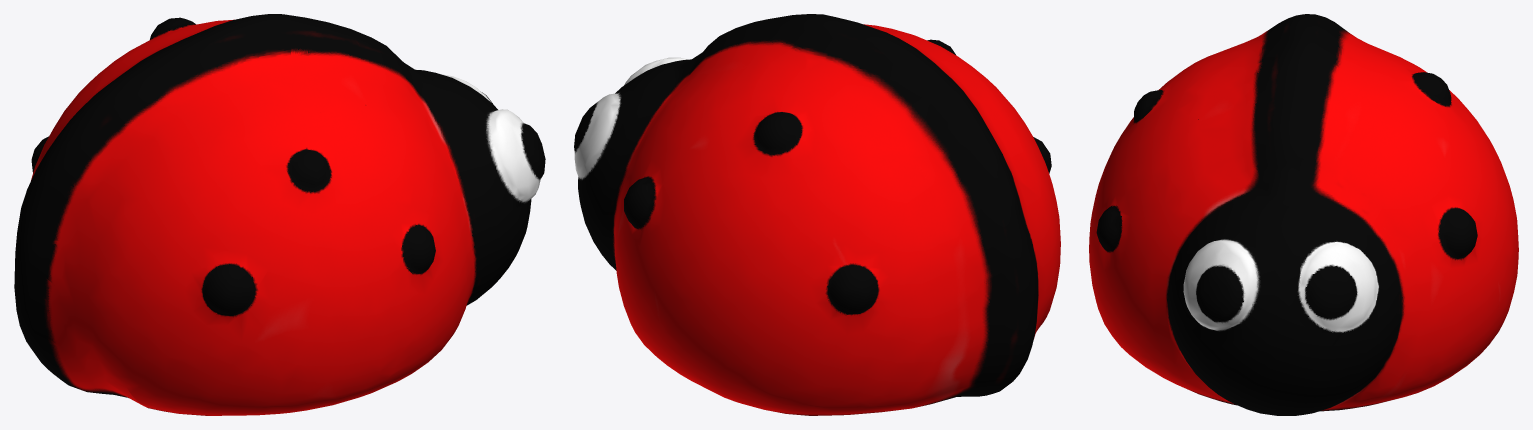
Rendered from smeerws_2018-03-05_08-09-23ladybug.fbx.
The picture shows the model from 3 angles, left to right: view 1: azimuth 30°, elevation 25°; view 2: azimuth 150°, elevation 25°; view 3: azimuth 270°, elevation 25°; orthographic projection. The views are drawn at different scales.
Parts seen in each view (by area): view 1: Layer_1; view 2: Layer_1; view 3: Layer_1.
Part boxes in pixels (x1=…): Layer_1: x1=14, y1=14, x2=545, y2=415; Layer_1: x1=574, y1=14, x2=1060, y2=415; Layer_1: x1=1089, y1=14, x2=1518, y2=415.
Bounding box in the file's own units: 0.7159 × 0.6001 × 0.5567.
